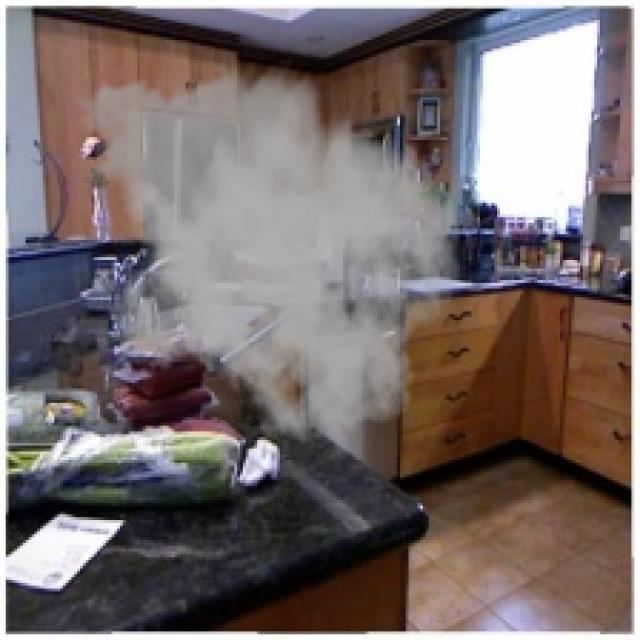smoke: (68, 57, 463, 457)
